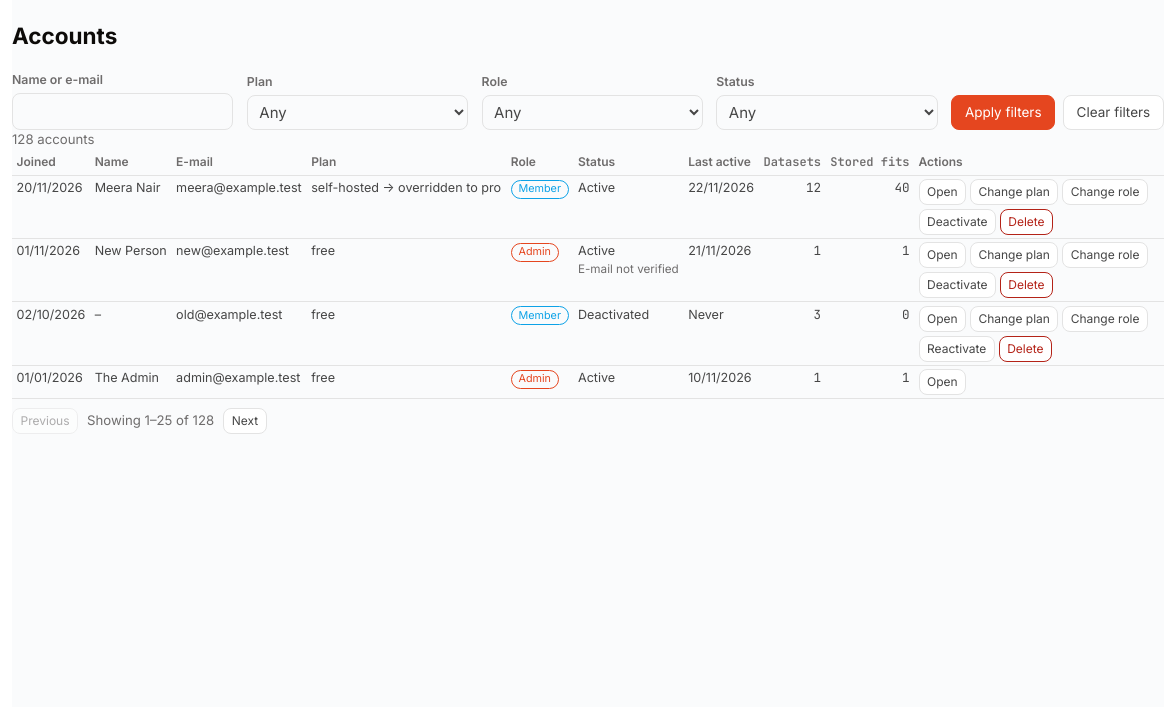
Test: UsersPage — one account's detail › shows the server's reason when the account cannot be loaded, with a Retry
Expected: the table named "Accounts" is shown, [12,150,1164,399]
Click the button with aria-label "Open meera@example.test" at (942, 192), box [918,179,966,205]
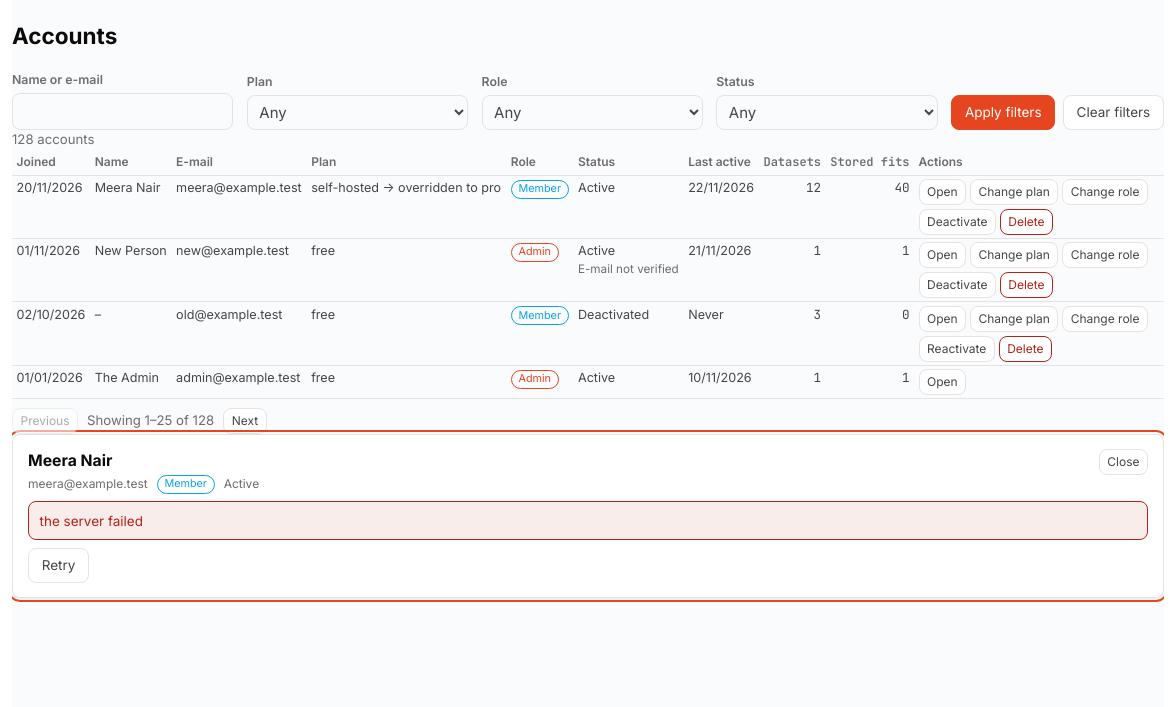
Expected: the message reads "the server failed", [40,513,143,529]
Click the button "Retry" at (59, 566), box [28,548,89,583]
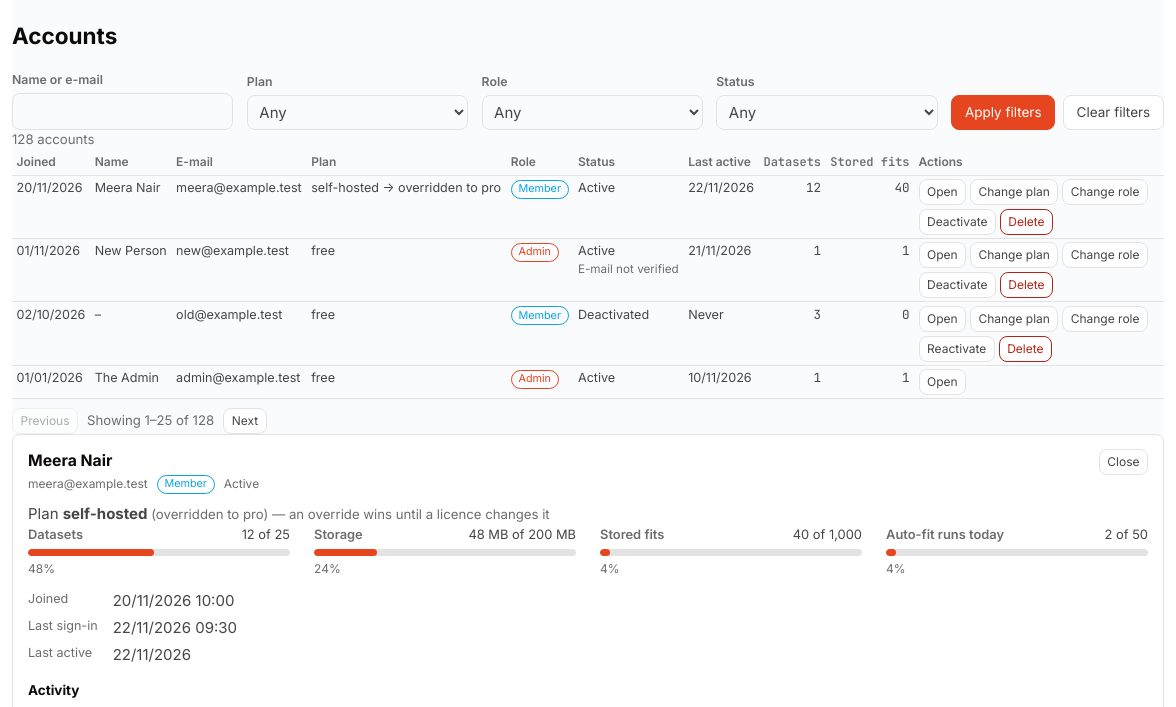
Expected: the progress indicator named "Datasets" is shown, [28,549,290,556]
